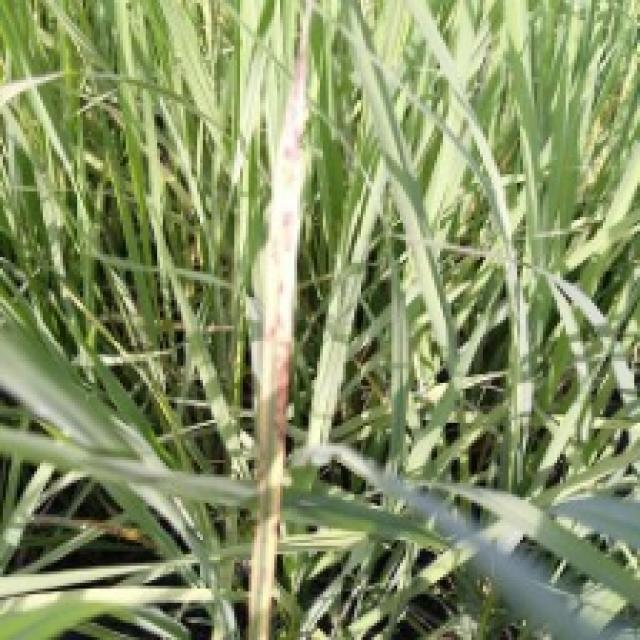Rice___Brown_Spot: (245, 19, 304, 637)
